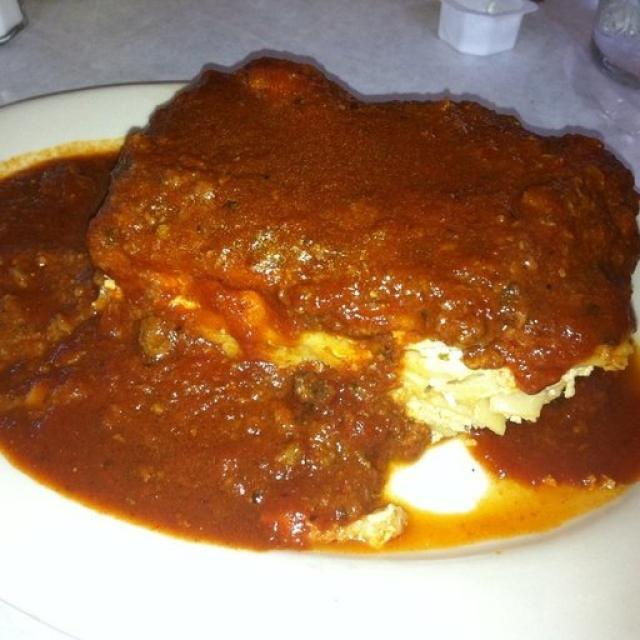Lasagna: (85, 54, 620, 446)
